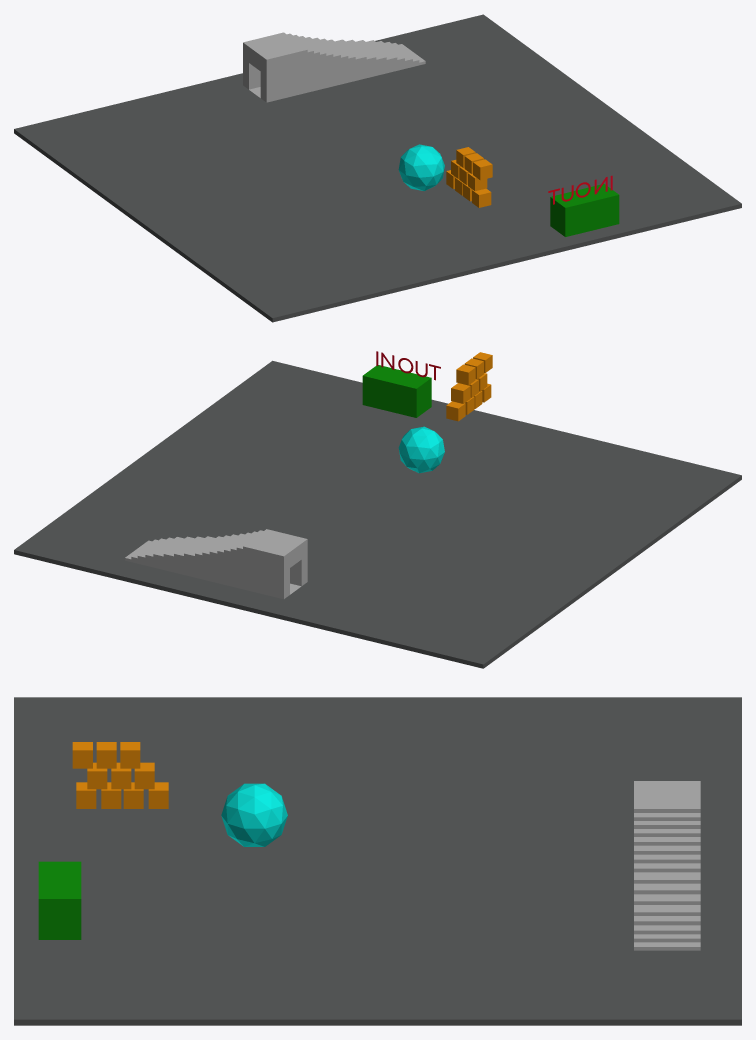
Rendered from test-world7.glb.
The picture shows the model from 3 angles, top to bottom: view 1: azimuth 30°, elevation 25°; view 2: azimuth 150°, elevation 25°; view 3: azimuth 270°, elevation 25°; orthographic projection. The views are drawn at different scales.
Visible parts, largest first — view 1: mesh.002, mesh.001, event.001, obj.011; view 2: mesh.002, mesh.001, event.001, obj.011; view 3: mesh.002, mesh.001, event.001, obj.011, obj.008, obj.009, obj.010, obj.003.
Part boxes in pixels (x1=…): mesh.002: x1=14, y1=14, x2=741, y2=322; mesh.001: x1=243, y1=32, x2=425, y2=102; event.001: x1=550, y1=184, x2=619, y2=236; obj.011: x1=398, y1=144, x2=444, y2=191; mesh.002: x1=14, y1=360, x2=741, y2=668; mesh.001: x1=125, y1=529, x2=307, y2=599; event.001: x1=362, y1=365, x2=431, y2=417; obj.011: x1=398, y1=426, x2=444, y2=473; mesh.002: x1=14, y1=697, x2=741, y2=1025; mesh.001: x1=634, y1=781, x2=700, y2=950; event.001: x1=38, y1=861, x2=81, y2=939; obj.011: x1=221, y1=783, x2=287, y2=846; obj.008: x1=96, y1=742, x2=116, y2=768; obj.009: x1=72, y1=742, x2=92, y2=768; obj.010: x1=120, y1=742, x2=140, y2=768; obj.003: x1=134, y1=762, x2=154, y2=789.
Size of the model in its own units: 22.88 by 3.91 by 21.82.
